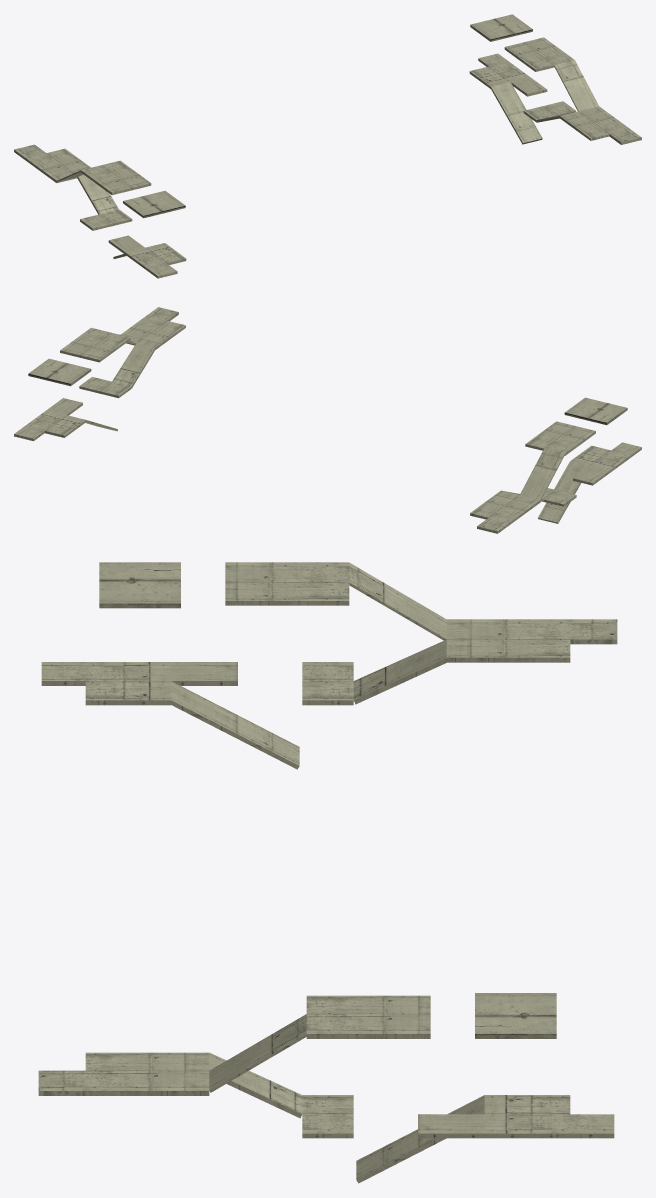
Rendered from SM_NeoLD_06_Block_02.fbx.
The picture shows the model from 3 angles, top to bottom: view 1: azimuth 30°, elevation 25°; view 2: azimuth 150°, elevation 25°; view 3: azimuth 270°, elevation 25°; orthographic projection. The views are drawn at different scales.
Parts seen in each view (by area): view 1: SM_NeoLD_06_Block_02; view 2: SM_NeoLD_06_Block_02; view 3: SM_NeoLD_06_Block_02.
Boxes of the visible parts, x1,y1,x2,y2 form: SM_NeoLD_06_Block_02: (14, 14, 641, 278); SM_NeoLD_06_Block_02: (14, 307, 641, 533); SM_NeoLD_06_Block_02: (38, 562, 617, 1183).
Bounding box in the file's own units: 6167 × 1029 × 3199.
